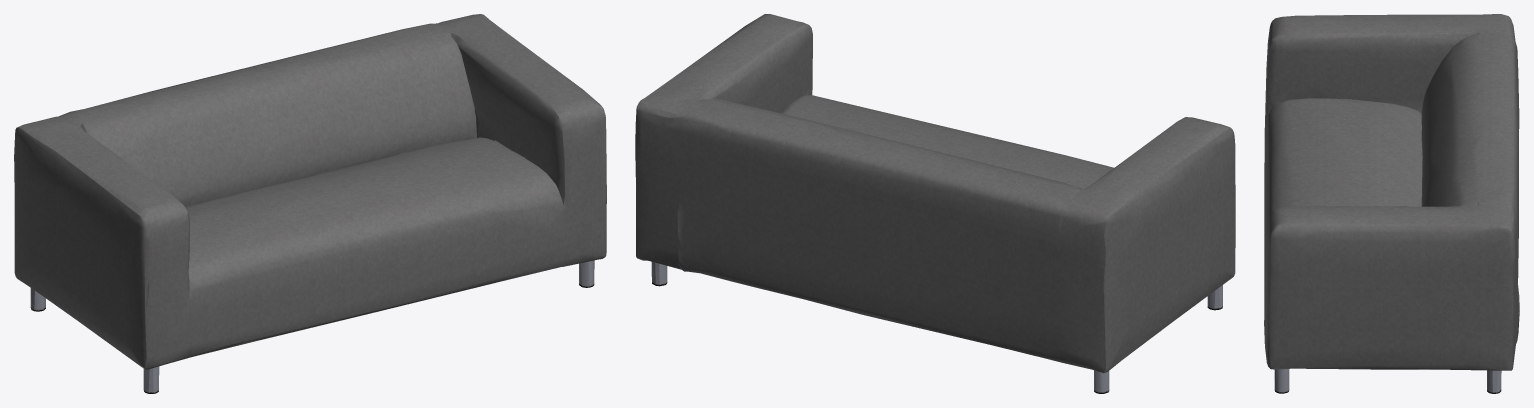
3 views of the same model, side by side, from view 1: azimuth 30°, elevation 25°; view 2: azimuth 150°, elevation 25°; view 3: azimuth 270°, elevation 25° (orthographic). The views are drawn at different scales.
Visible parts, largest first — view 1: ProcessedMeshNode; view 2: ProcessedMeshNode; view 3: ProcessedMeshNode.
Boxes of the visible parts, bbox=[...] form: ProcessedMeshNode: bbox=[14, 14, 606, 393]; ProcessedMeshNode: bbox=[635, 14, 1235, 393]; ProcessedMeshNode: bbox=[1264, 14, 1519, 393].
Bounding box in the file's own units: 1.8 × 0.6727 × 0.8936.
2 materials, 2 textured.
